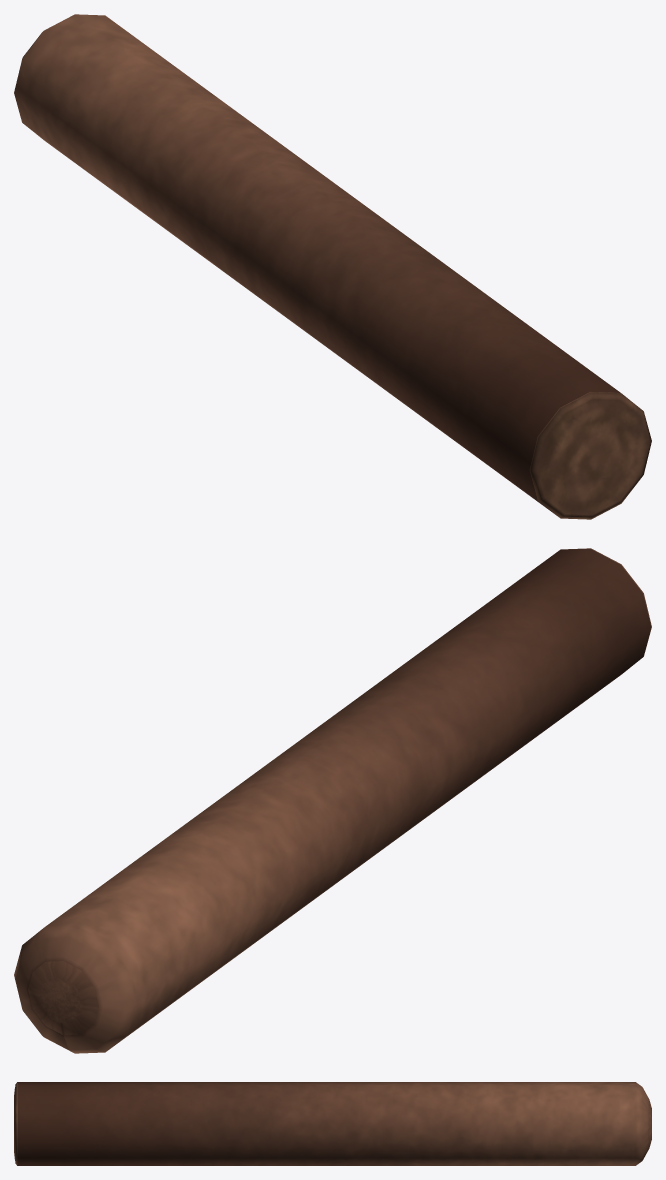
Rendered from Cigar.fbx.
3 renders of one model, top to bottom at view 1: azimuth 30°, elevation 25°; view 2: azimuth 150°, elevation 25°; view 3: azimuth 270°, elevation 25°, orthographic. The views are drawn at different scales.
Visible parts, largest first — view 1: Cigar; view 2: Cigar; view 3: Cigar.
Boxes of the visible parts, bbox=[...] form: Cigar: bbox=[14, 14, 651, 519]; Cigar: bbox=[14, 548, 651, 1053]; Cigar: bbox=[14, 1082, 651, 1165].
Size of the model in its own units: 0.7595 by 0.7595 by 5.75.
